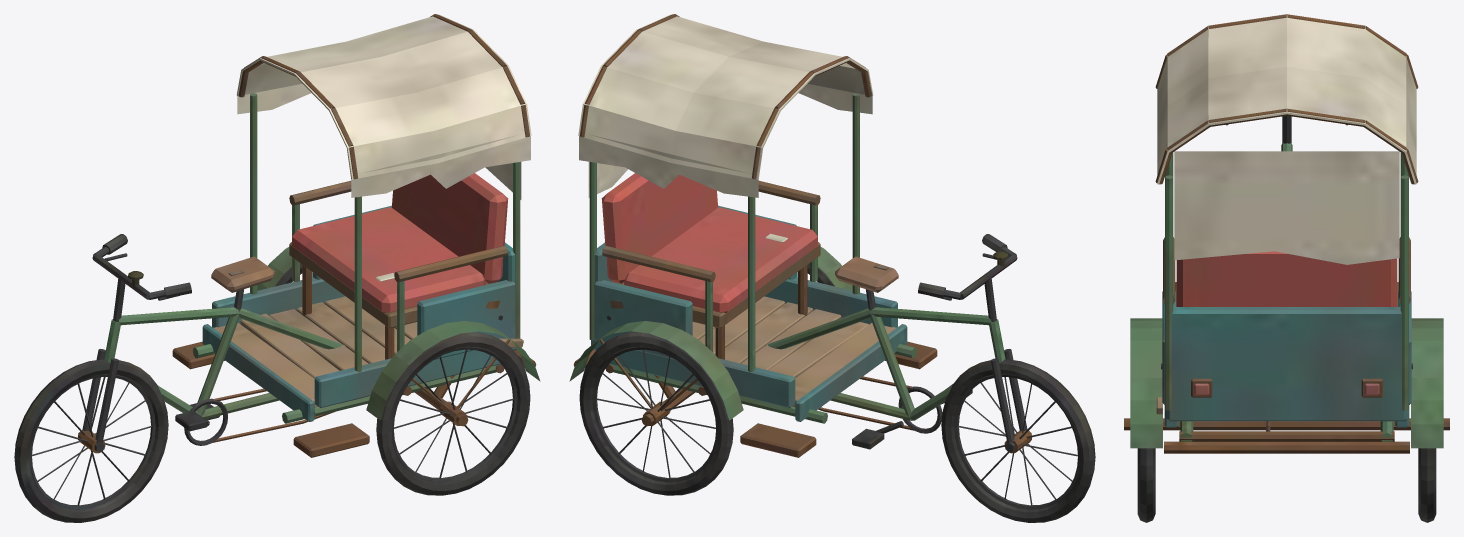
The model's file is V09_cycle_rickshaw.glb.
The picture shows the model from 3 angles, left to right: view 1: azimuth 30°, elevation 25°; view 2: azimuth 150°, elevation 25°; view 3: azimuth 270°, elevation 25°; orthographic projection. The views are drawn at different scales.
Parts seen in each view (by area): view 1: Front cracked tire; view 2: Front cracked tire; view 3: Front cracked tire.
Boxes of the visible parts, x1,y1,x2,y2 form: Front cracked tire: [14, 14, 540, 522]; Front cracked tire: [569, 14, 1095, 522]; Front cracked tire: [1124, 14, 1449, 522].
Size of the model in its own units: 2.5 by 2.04 by 1.35.
Materials: 12 (12 with a texture image).
